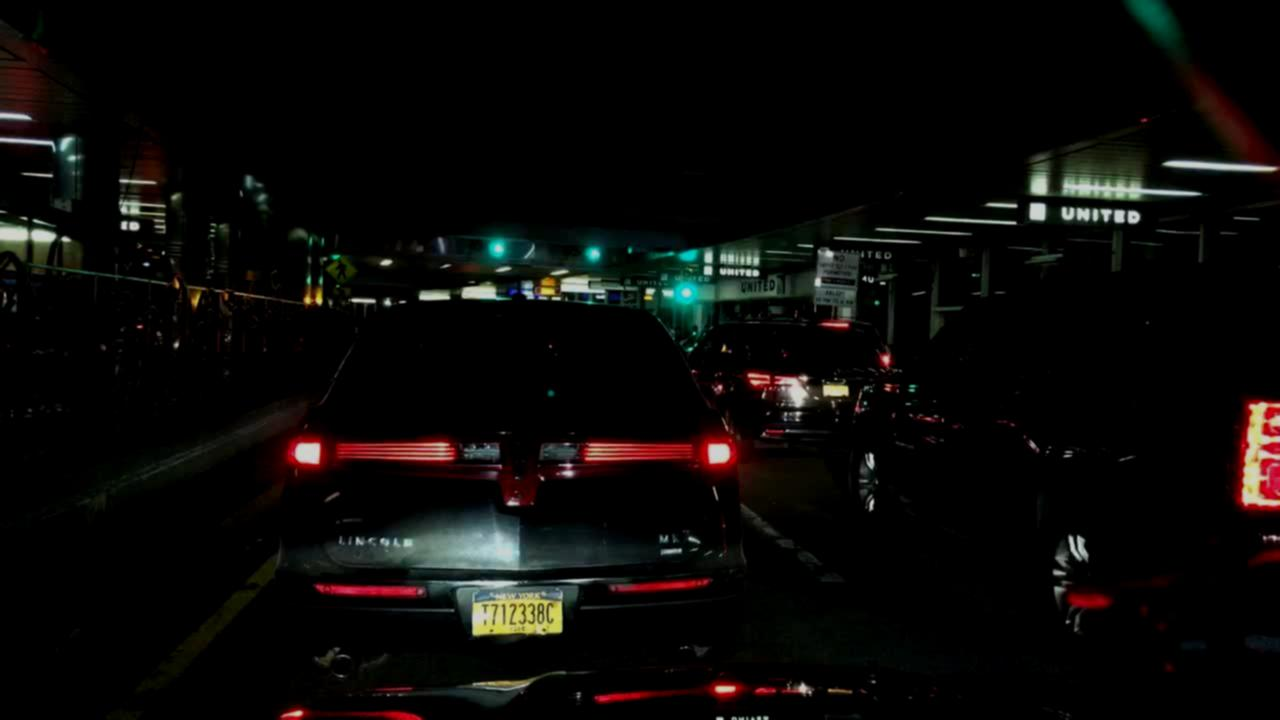lincoln: (502, 432, 539, 502)
